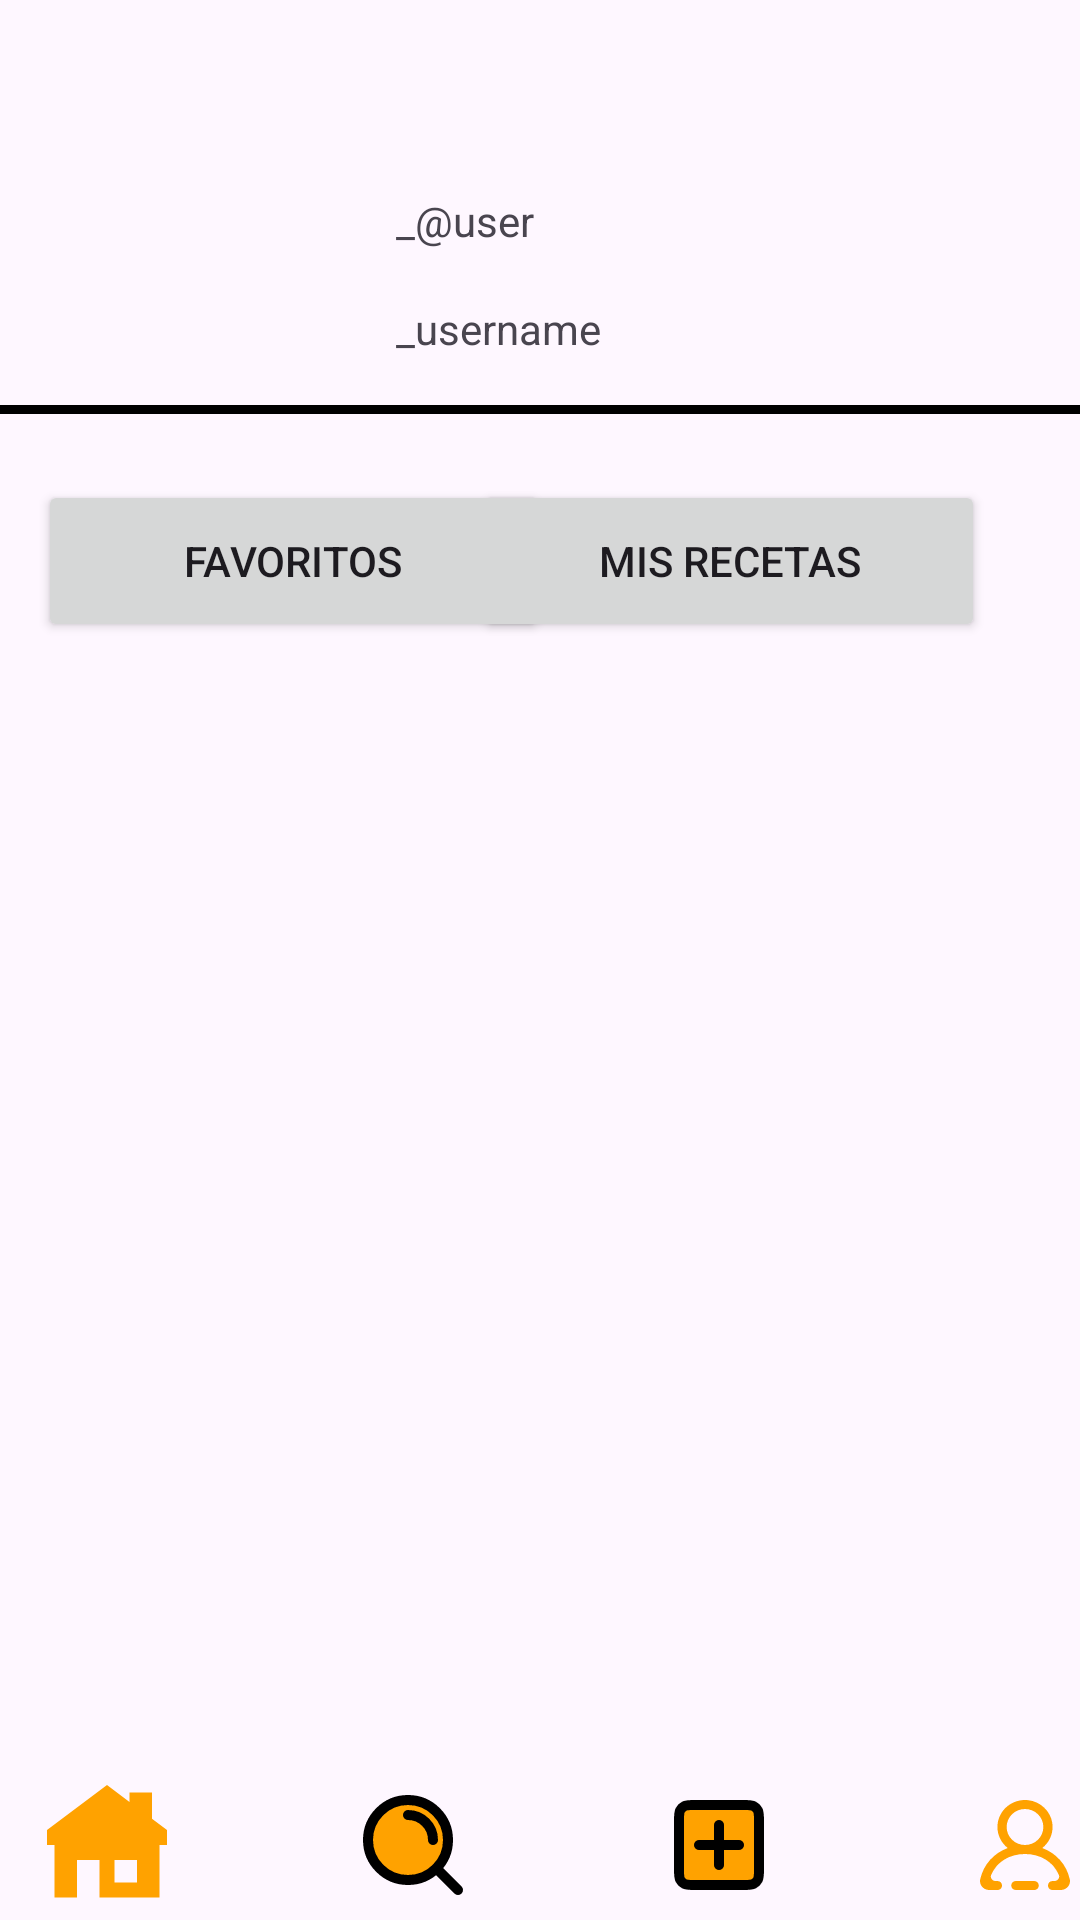

Screen size 1080px x 1920px. Icon name, then its center in pixels as (x,y):
add plus square: (719,1845)
search: (413,1845)
